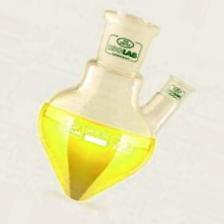Pear shaped flask: (29, 14, 192, 204)
